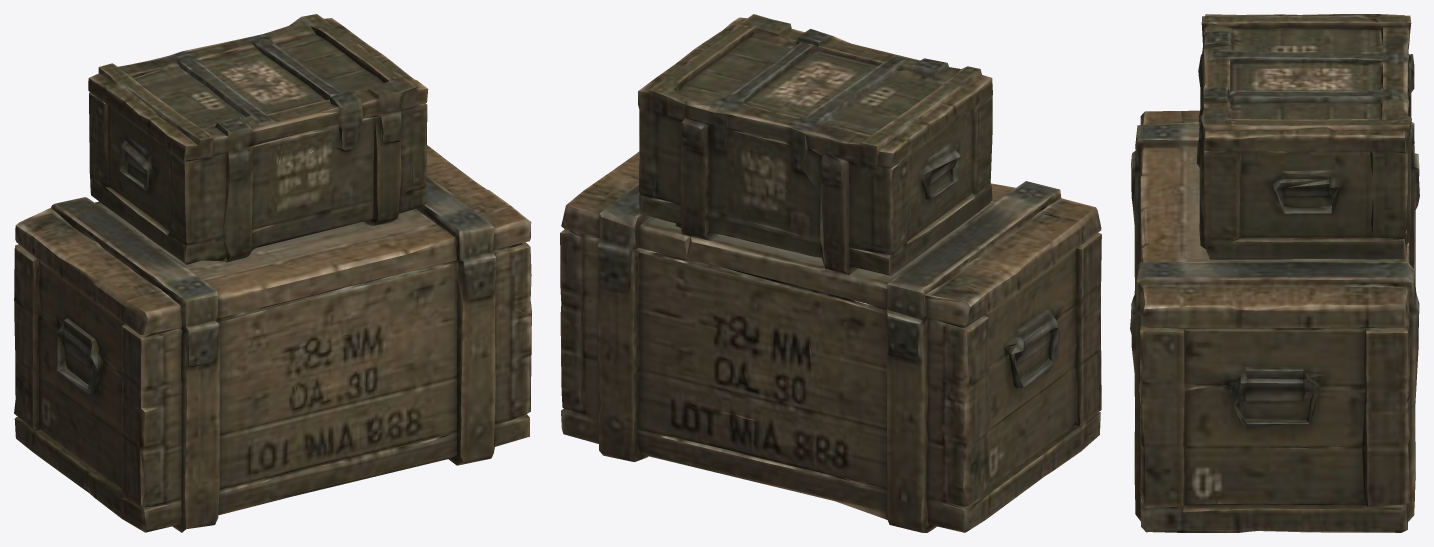
The model's file is ww2_ammo_crate.glb.
3 views of the same model, side by side, from view 1: azimuth 30°, elevation 25°; view 2: azimuth 150°, elevation 25°; view 3: azimuth 270°, elevation 25° (orthographic). The views are drawn at different scales.
Parts seen in each view (by area): view 1: turn; view 2: turn; view 3: turn.
Part boxes in pixels (bbox=[...]): turn: bbox=[14, 14, 531, 532]; turn: bbox=[560, 14, 1101, 532]; turn: bbox=[1130, 14, 1419, 532].
Bounding box in the file's own units: 1.03 × 0.9001 × 0.6253.
Materials: 1 (1 with a texture image).
